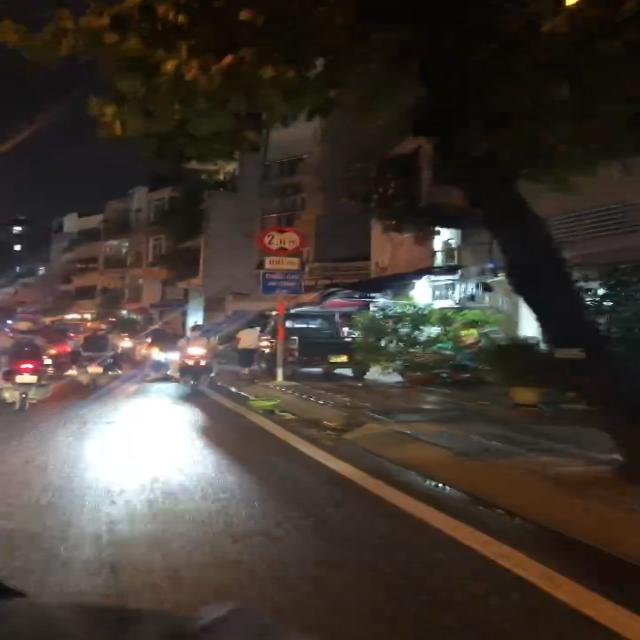Bien bao han che chieu cao: (253, 224, 310, 256)
